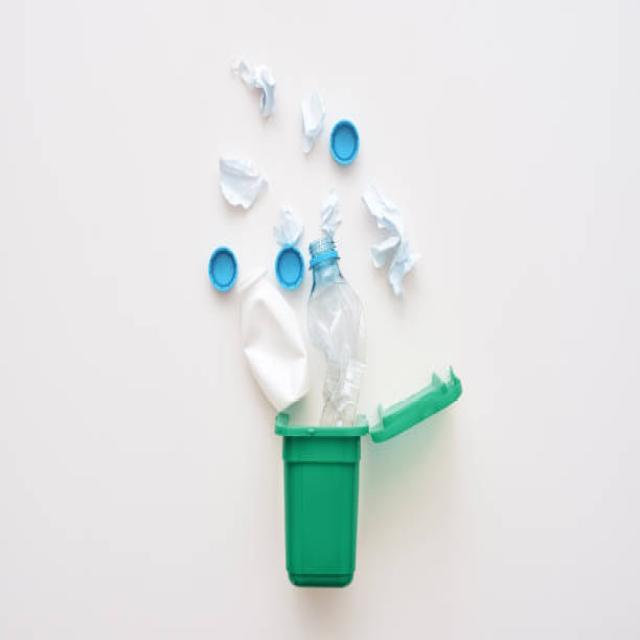paper: (212, 58, 326, 209)
plastic: (205, 234, 377, 416)
